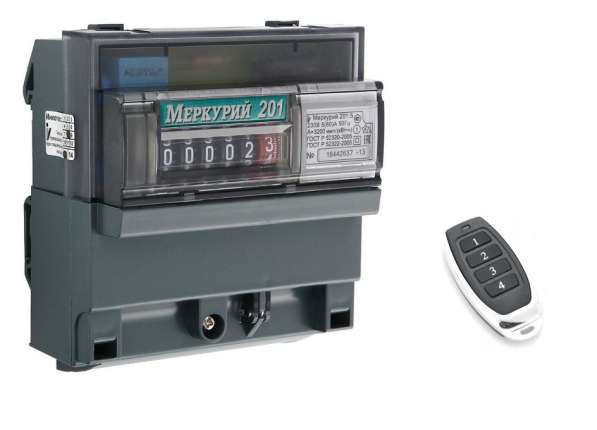counter: (73, 15, 388, 347)
counter_screen: (154, 130, 288, 170)
